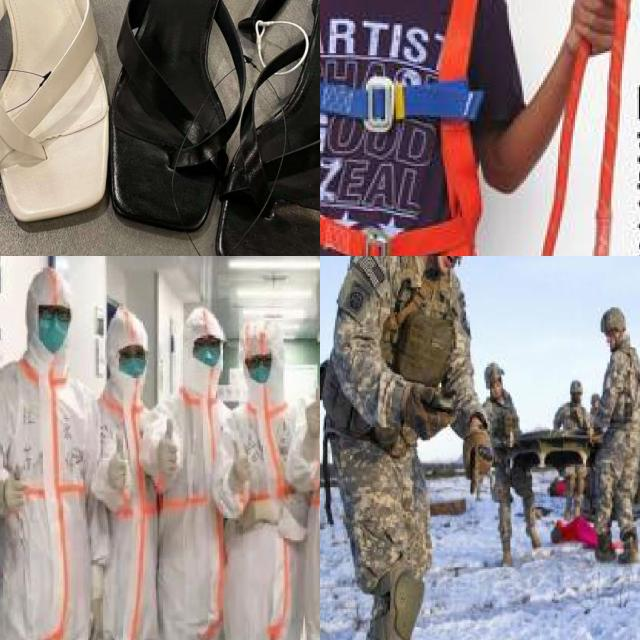Harness: (320, 0, 498, 256)
Sandals: (100, 0, 320, 256), (0, 0, 120, 256)
face_mask: (29, 303, 72, 349), (188, 330, 224, 372), (244, 348, 278, 388), (117, 345, 150, 380)
face_nomask: (431, 256, 464, 282)
glasses: (32, 302, 77, 324), (245, 352, 274, 370)
hand_glove: (406, 383, 458, 443), (463, 434, 492, 500), (106, 431, 130, 495), (227, 438, 256, 488), (157, 417, 180, 479), (4, 460, 28, 511), (306, 384, 320, 440)
hand_noglove: (504, 432, 516, 448), (588, 426, 595, 444)
head_helmet: (602, 304, 630, 336), (483, 360, 506, 387), (566, 383, 583, 401)
person: (320, 256, 513, 640), (0, 268, 89, 640), (91, 295, 172, 640), (226, 320, 311, 640), (161, 301, 234, 640), (560, 301, 640, 565), (472, 355, 555, 566)
